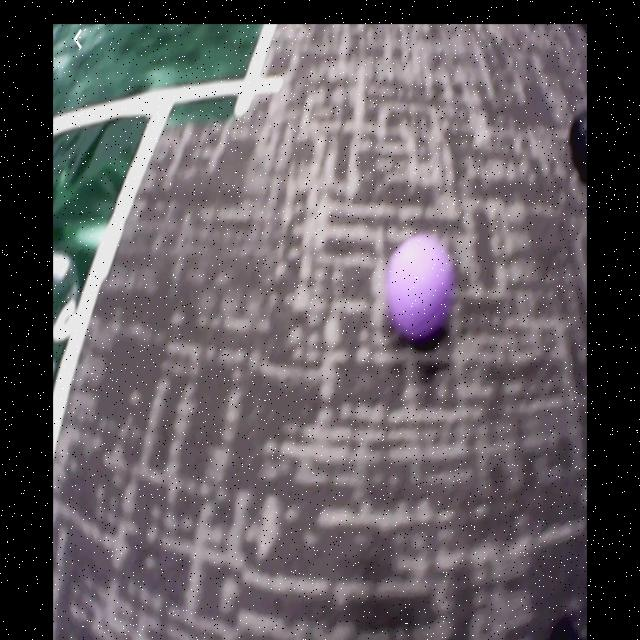ball: (390, 241, 455, 340)
